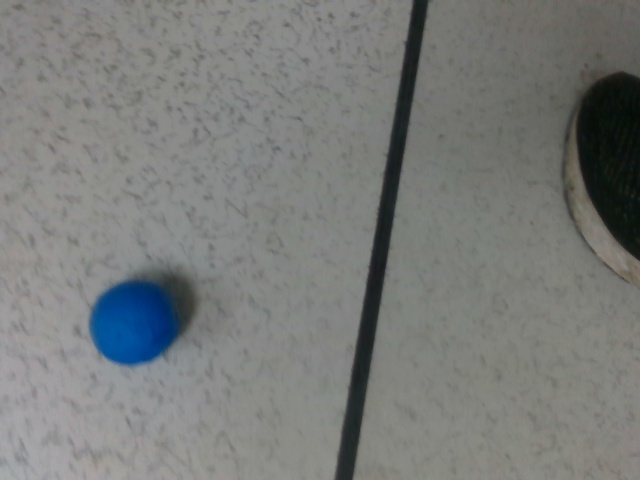blueball: (85, 272, 181, 373)
